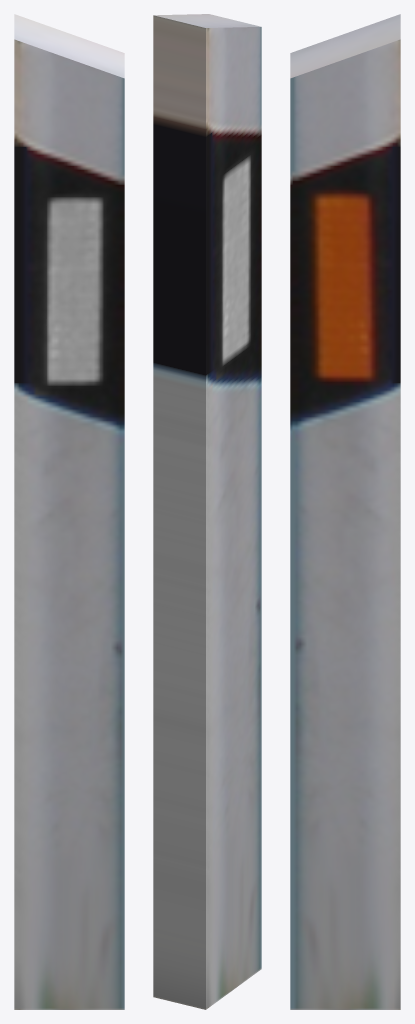
The model's file is stolbik1.FBX.
The picture shows the model from 3 angles, left to right: view 1: azimuth 90°, elevation 25°; view 2: azimuth 150°, elevation 25°; view 3: azimuth 270°, elevation 25°; orthographic projection.
Parts seen in each view (by area): view 1: Box01; view 2: Box01; view 3: Box01.
Boxes of the visible parts, bbox=[...] form: Box01: bbox=[14, 14, 124, 1009]; Box01: bbox=[153, 14, 261, 1009]; Box01: bbox=[290, 14, 400, 1009].
Bounding box in the file's own units: 0.9628 × 17.17 × 1.77.
Materials: 1 (1 with a texture image).
